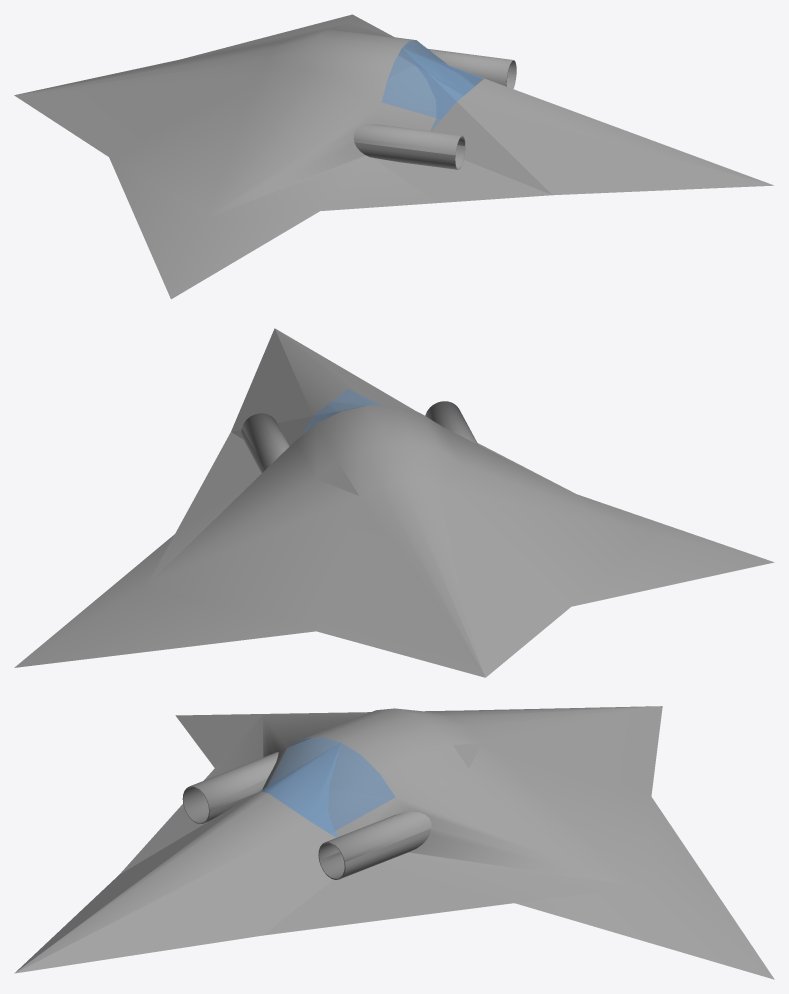
File: spaceship.dae
3 views of the same model, one above another, from view 1: azimuth 30°, elevation 25°; view 2: azimuth 150°, elevation 25°; view 3: azimuth 270°, elevation 25° (orthographic). The views are drawn at different scales.
Visible parts, largest first — view 1: Component_2 (×2); view 2: Component_2 (×2); view 3: Component_2 (×4).
Part boxes in pixels (x1=…): Component_2 (×2): x1=14, y1=14, x2=773, y2=299; Component_2 (×2): x1=14, y1=328, x2=774, y2=677; Component_2 (×4): x1=14, y1=706, x2=774, y2=979.
Size of the model in its own units: 795 by 857 by 198.
